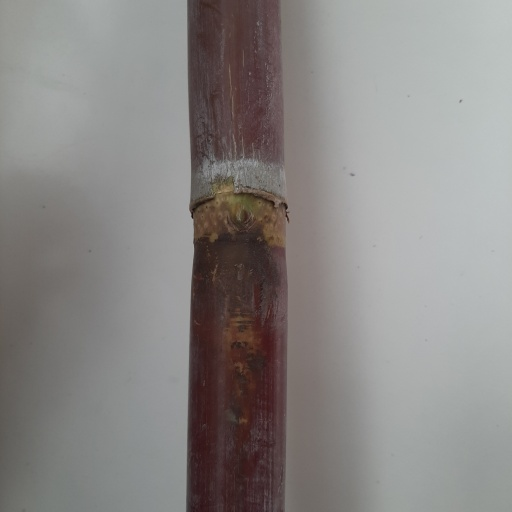Bud: (232, 202, 252, 230)
